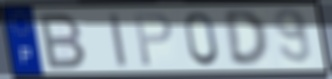0: (183, 11, 221, 68)
9: (275, 7, 315, 70)
B: (38, 11, 89, 71)
D: (221, 8, 271, 69)
I: (107, 10, 129, 70)
P: (132, 11, 174, 69)
